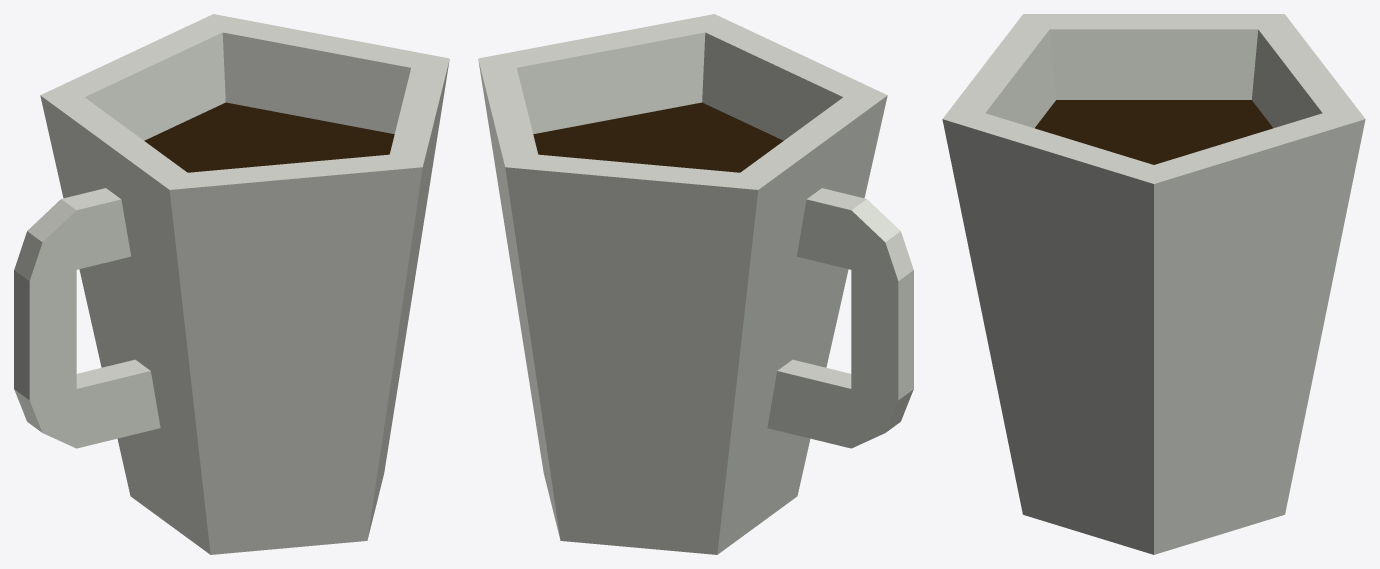
File: cup_full_handle_1.fbx
3 renders of one model, left to right at view 1: azimuth 30°, elevation 25°; view 2: azimuth 150°, elevation 25°; view 3: azimuth 270°, elevation 25°, orthographic.
Parts seen in each view (by area): view 1: cup_full_handle_1; view 2: cup_full_handle_1; view 3: cup_full_handle_1.
Part boxes in pixels (x1,y1,x2,y2): cup_full_handle_1: (14,14,449,554); cup_full_handle_1: (478,14,913,554); cup_full_handle_1: (942,14,1365,554).
Size of the model in its own units: 0.7502 by 0.6685 by 0.6358.
